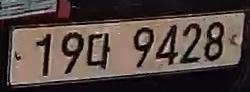1: (33, 31, 57, 79)
2: (180, 22, 204, 65)
4: (156, 23, 180, 65)
8: (204, 20, 225, 62)
9: (60, 30, 86, 78), (130, 24, 156, 70)
다: (85, 31, 113, 71)
